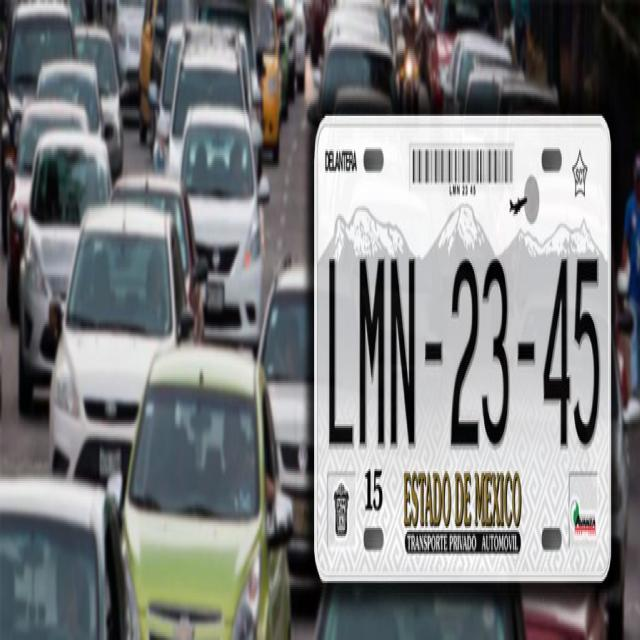placa: (318, 227, 610, 459)
